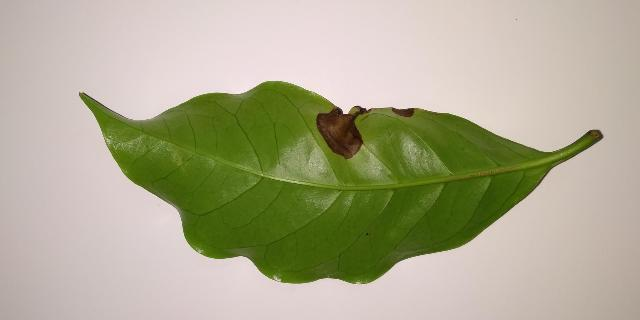rust: (317, 102, 375, 158), (390, 108, 419, 117)
